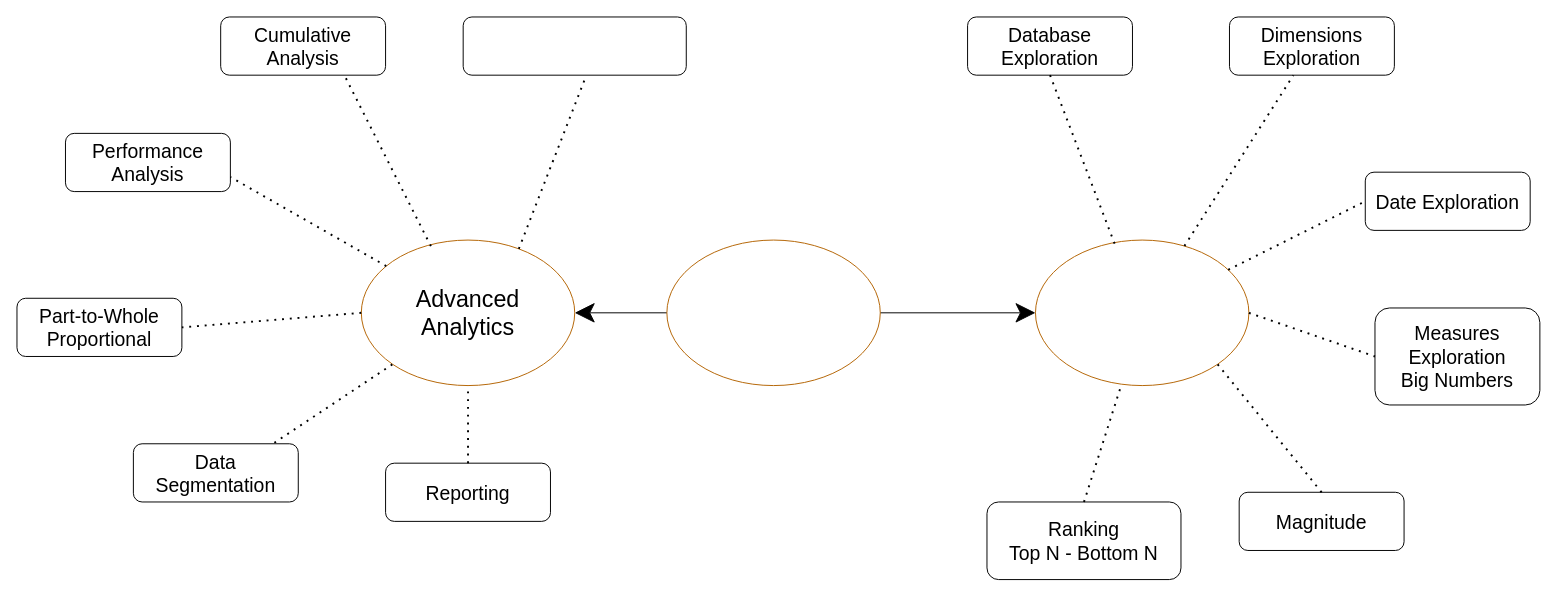
Image size: 1557x597. Some labels were removed from this diagram. Each missing label, with the centre of its shape:
"Change Over Time Trends" belongs at point 574,45.
"Data Analytics" belongs at point 773,312.
"Exploratory Data Analysis" belongs at point 1142,312.
